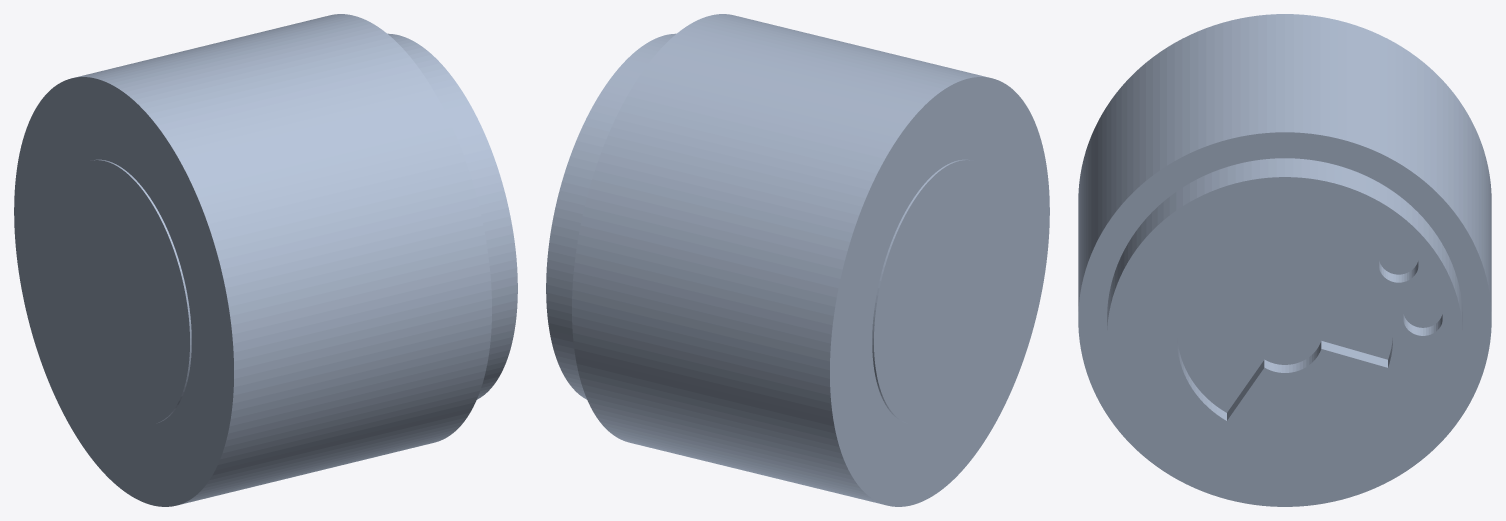
3 views of the same model, side by side, from view 1: azimuth 30°, elevation 25°; view 2: azimuth 150°, elevation 25°; view 3: azimuth 270°, elevation 25° (orthographic). The views are drawn at different scales.
Parts seen in each view (by area): view 1: UArm-V3.6-End joint-simplified; view 2: UArm-V3.6-End joint-simplified; view 3: UArm-V3.6-End joint-simplified.
Boxes of the visible parts, x1,y1,x2,y2 form: UArm-V3.6-End joint-simplified: (14, 14, 517, 506); UArm-V3.6-End joint-simplified: (546, 14, 1049, 506); UArm-V3.6-End joint-simplified: (1078, 14, 1491, 506).
Bounding box in the file's own units: 0.0513 × 0.065 × 0.065.
